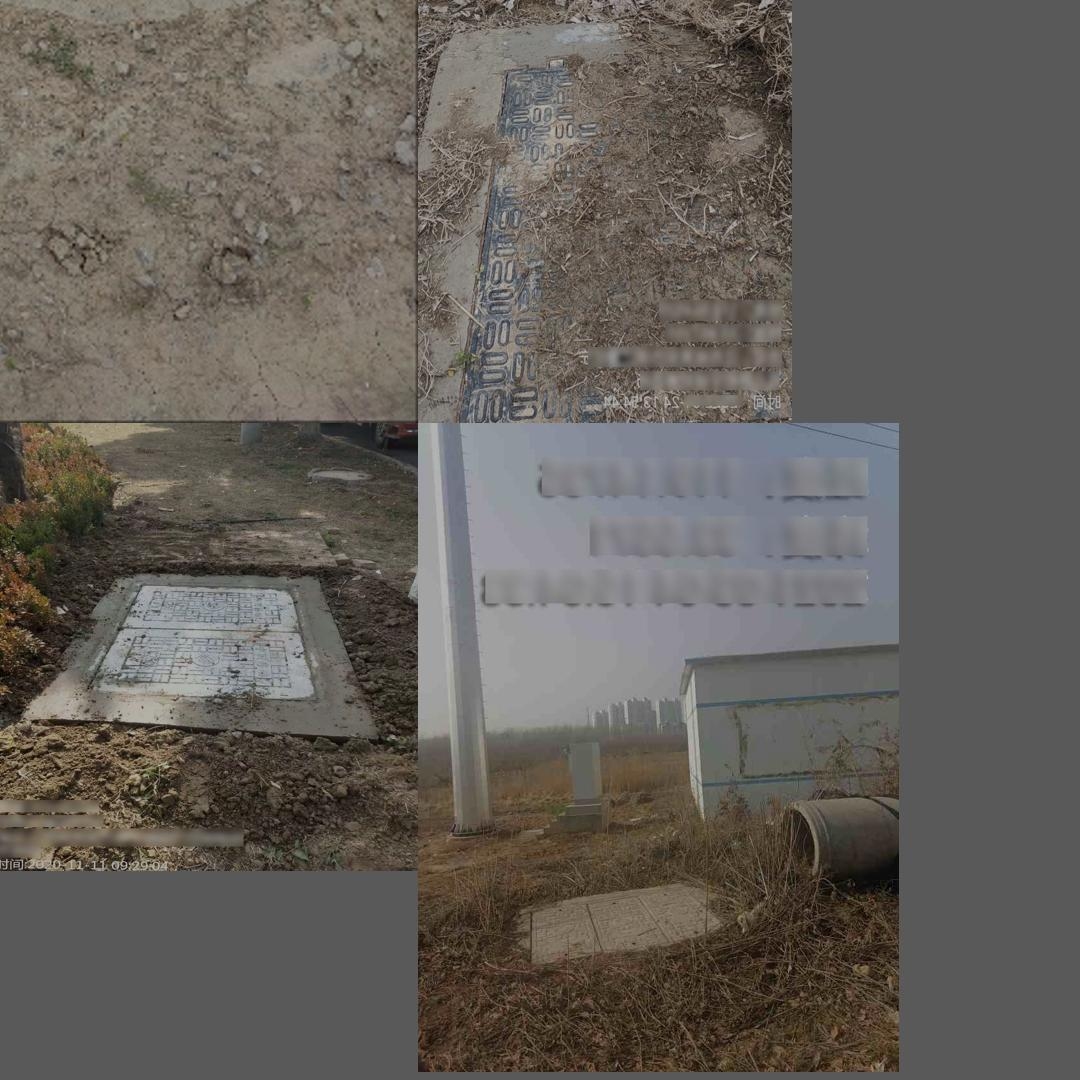good: (455, 55, 783, 423), (42, 564, 373, 721), (523, 881, 726, 970)
